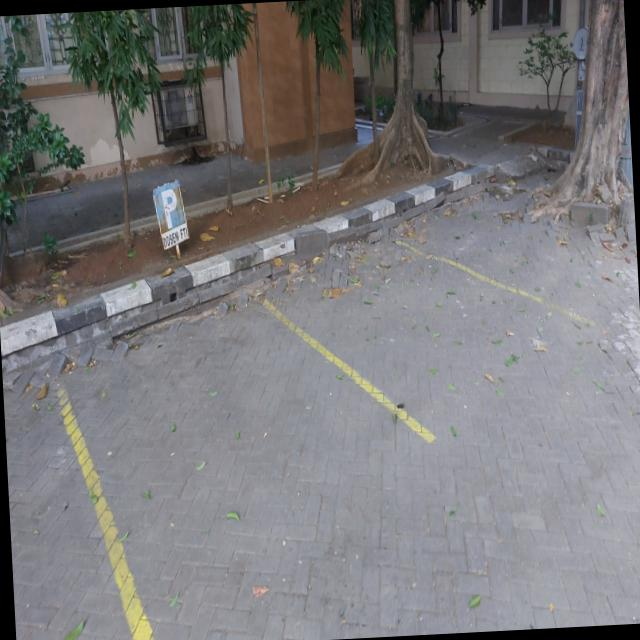free: (50, 285, 429, 640), (257, 233, 580, 445)
